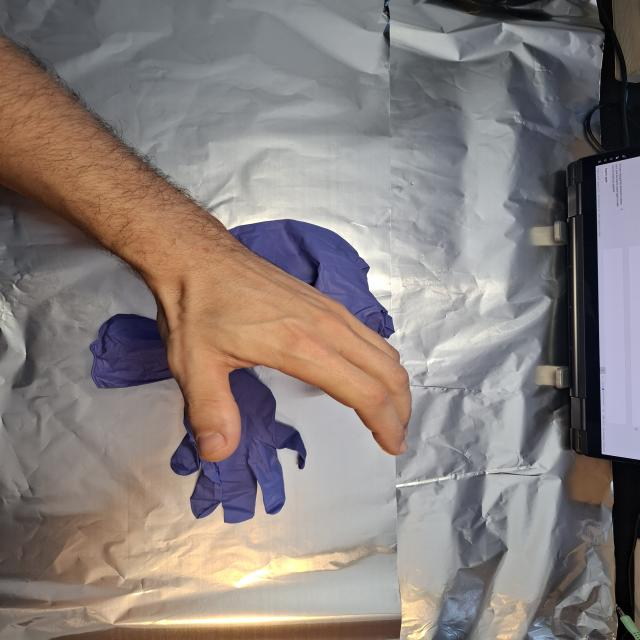glove_off: (134, 243, 418, 463)
